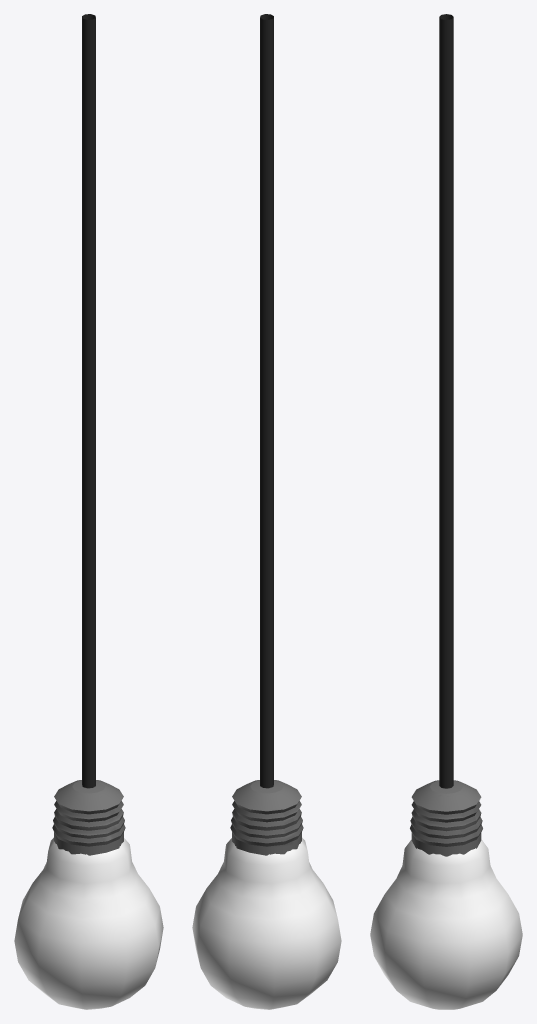
File: bombilla_lp.fbx
The picture shows the model from 3 angles, left to right: view 1: azimuth 30°, elevation 25°; view 2: azimuth 150°, elevation 25°; view 3: azimuth 270°, elevation 25°; orthographic projection.
Visible parts, largest first — view 1: Sphere.002, Sphere.001; view 2: Sphere.002, Sphere.001; view 3: Sphere.002, Sphere.001.
Part boxes in pixels (x1=…): Sphere.002: x1=14, y1=837, x2=163, y2=1009; Sphere.001: x1=52, y1=14, x2=125, y2=855; Sphere.002: x1=192, y1=837, x2=341, y2=1009; Sphere.001: x1=230, y1=14, x2=303, y2=855; Sphere.002: x1=370, y1=840, x2=522, y2=1009; Sphere.001: x1=410, y1=14, x2=482, y2=856.
Bounding box in the file's own units: 11.41 × 85.59 × 12.
